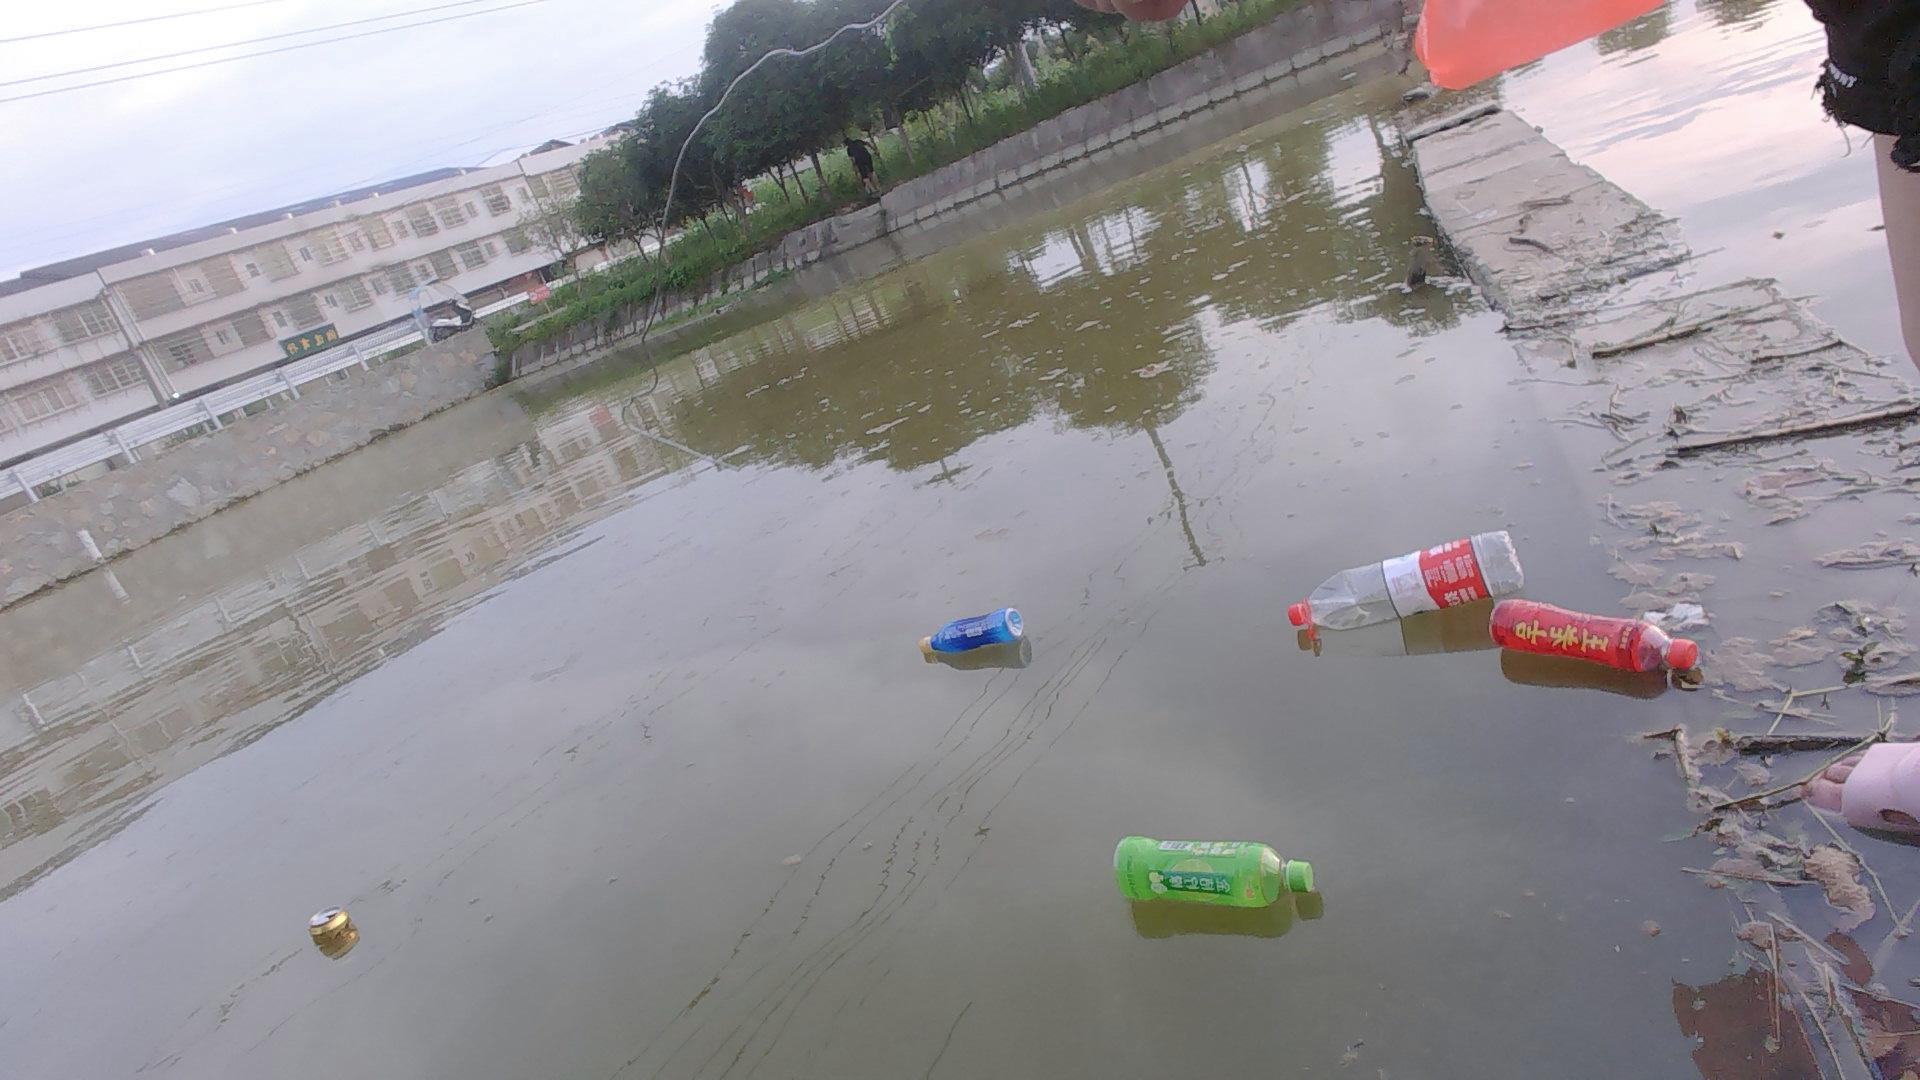Plastic: (1280, 526, 1532, 642), (1106, 824, 1329, 927), (1485, 592, 1706, 676), (910, 596, 1033, 674), (305, 899, 360, 952)
